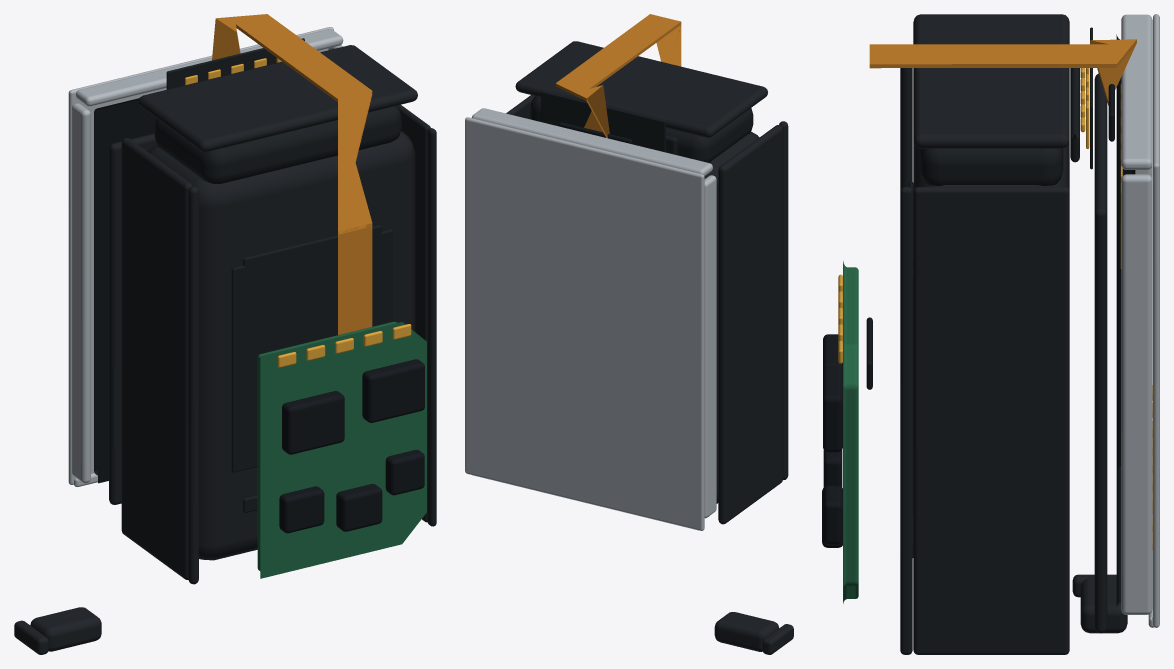
Rendered from 05_power_storage.glb.
3 views of the same model, side by side, from view 1: azimuth 30°, elevation 25°; view 2: azimuth 150°, elevation 25°; view 3: azimuth 270°, elevation 25° (orthographic). The views are drawn at different scales.
Visible parts, largest first — view 1: Z50II-05-001_en_el25a_battery_shell.001, Z50II_battery_cradle_left_front_rail.001, Z50II-05-004_power_board.001, Z50II_battery_cradle_upper_stop.001, Z50II_battery_label_recess.001, Z50II-05-008_power_flex_cable.001, Z50II_battery_keyed_shoulder.001, Z50II-05-006_sd_card.001, Z50II_sd_slot_left_rail.001, Z50II-05-002_battery_cradle.001, Z50II_battery_cradle_left_lip.001, Z50II_battery_cradle_right_lip.001 (+13 smaller); view 2: Z50II-05-005_uhs_ii_sd_slot.001, Z50II_battery_cradle_left_front_rail.001, Z50II_battery_cradle_upper_stop.001, Z50II-05-008_power_flex_cable.001, Z50II_sd_slot_left_rail.001, Z50II_sd_slot_roof.001, Z50II_battery_contact_insulator.001, Z50II_battery_keyed_shoulder.001, Z50II_battery_cradle_left_lip.001, Z50II-05-007_bottom_door_latch.001, Z50II-05-001_en_el25a_battery_shell.001, Z50II_bottom_door_latch_hook.001; view 3: Z50II_battery_cradle_right_front_rail.001, Z50II_battery_cradle_upper_stop.001, Z50II_sd_slot_right_rail.001, Z50II-05-002_battery_cradle.001, Z50II-05-008_power_flex_cable.001, Z50II_battery_cradle_right_lip.001, Z50II-05-004_power_board.001, Z50II_battery_keyed_shoulder.001, Z50II_sd_slot_roof.001, Z50II-05-005_uhs_ii_sd_slot.001, Z50II-05-006_sd_card.001, Z50II_power_board_package_5.001 (+9 smaller).
Boxes of the visible parts, box(x1,y1,x2,y2) form: Z50II-05-001_en_el25a_battery_shell.001: box(148, 131, 415, 560); Z50II_battery_cradle_left_front_rail.001: box(121, 138, 192, 579); Z50II-05-004_power_board.001: box(257, 321, 426, 578); Z50II_battery_cradle_upper_stop.001: box(138, 45, 417, 151); Z50II_battery_label_recess.001: box(231, 229, 392, 472); Z50II-05-008_power_flex_cable.001: box(212, 14, 372, 334); Z50II_battery_keyed_shoulder.001: box(154, 106, 401, 183); Z50II-05-006_sd_card.001: box(94, 98, 156, 483); Z50II_sd_slot_left_rail.001: box(72, 103, 90, 483); Z50II-05-002_battery_cradle.001: box(109, 133, 156, 504); Z50II_battery_cradle_left_lip.001: box(188, 186, 198, 584); Z50II_battery_cradle_right_lip.001: box(427, 128, 436, 526); Z50II-05-005_uhs_ii_sd_slot.001: box(465, 117, 704, 530); Z50II_battery_cradle_left_front_rail.001: box(718, 125, 782, 524); Z50II_battery_cradle_upper_stop.001: box(515, 41, 767, 137); Z50II-05-008_power_flex_cable.001: box(555, 14, 681, 138); Z50II_sd_slot_left_rail.001: box(704, 175, 716, 518); Z50II_sd_slot_roof.001: box(471, 108, 712, 176); Z50II_battery_contact_insulator.001: box(541, 91, 665, 152); Z50II_battery_keyed_shoulder.001: box(530, 96, 753, 162); Z50II_battery_cradle_left_lip.001: box(779, 121, 788, 479); Z50II-05-007_bottom_door_latch.001: box(714, 612, 778, 651); Z50II-05-001_en_el25a_battery_shell.001: box(530, 118, 759, 503); Z50II_bottom_door_latch_hook.001: box(762, 624, 793, 654); Z50II_battery_cradle_right_front_rail.001: box(913, 187, 1069, 654); Z50II_battery_cradle_upper_stop.001: box(913, 14, 1069, 148); Z50II_sd_slot_right_rail.001: box(1121, 174, 1152, 614); Z50II-05-002_battery_cradle.001: box(1094, 73, 1107, 633); Z50II-05-008_power_flex_cable.001: box(869, 39, 1136, 105); Z50II_battery_cradle_right_lip.001: box(900, 187, 912, 654); Z50II-05-004_power_board.001: box(843, 261, 858, 603); Z50II_battery_keyed_shoulder.001: box(919, 148, 1063, 185); Z50II_sd_slot_roof.001: box(1121, 14, 1152, 169); Z50II-05-005_uhs_ii_sd_slot.001: box(1153, 14, 1159, 627); Z50II-05-006_sd_card.001: box(1116, 34, 1135, 607); Z50II_power_board_package_5.001: box(823, 366, 842, 452).
Bounding box in the file's own units: 0.0288 × 0.0476 × 0.0216.
